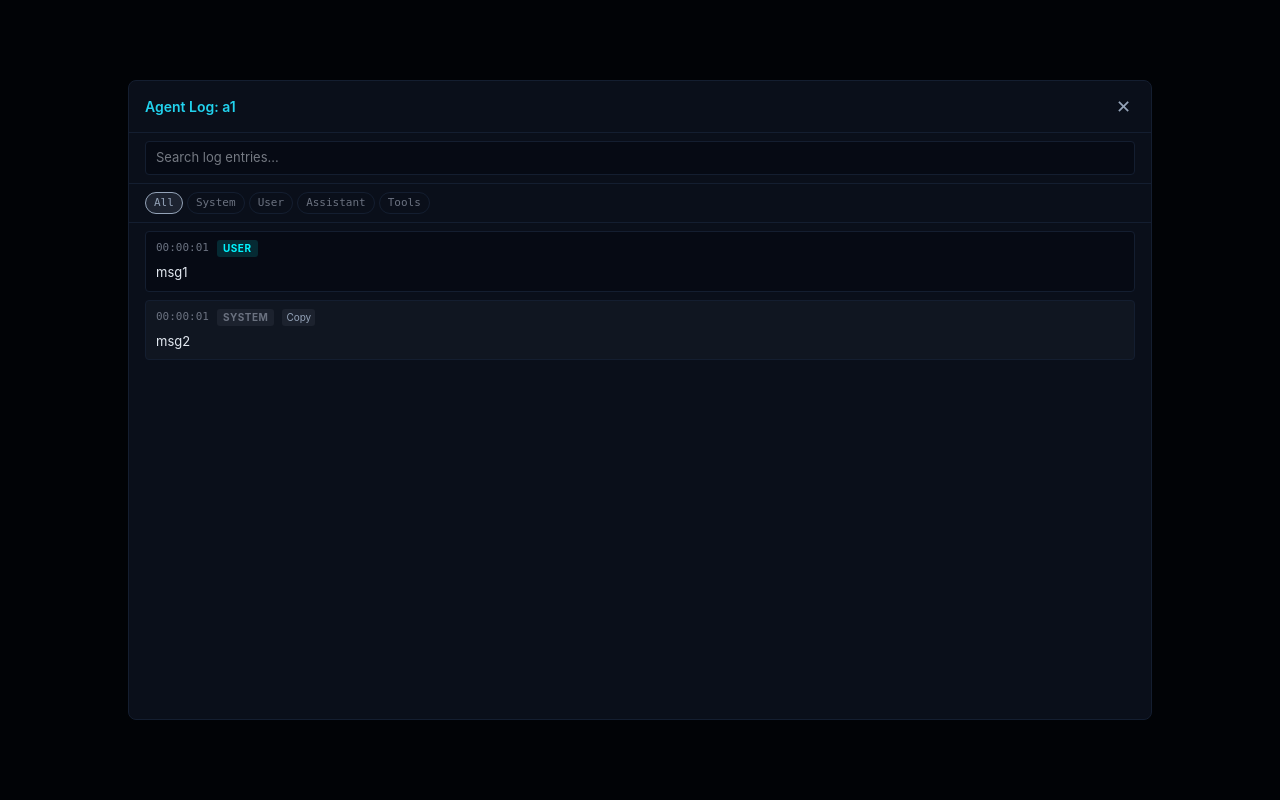
Scenario: LogViewer › switches back to All tab to show all entries again
Click the button "System". click: (216, 203)
box: [187,192,245,214]
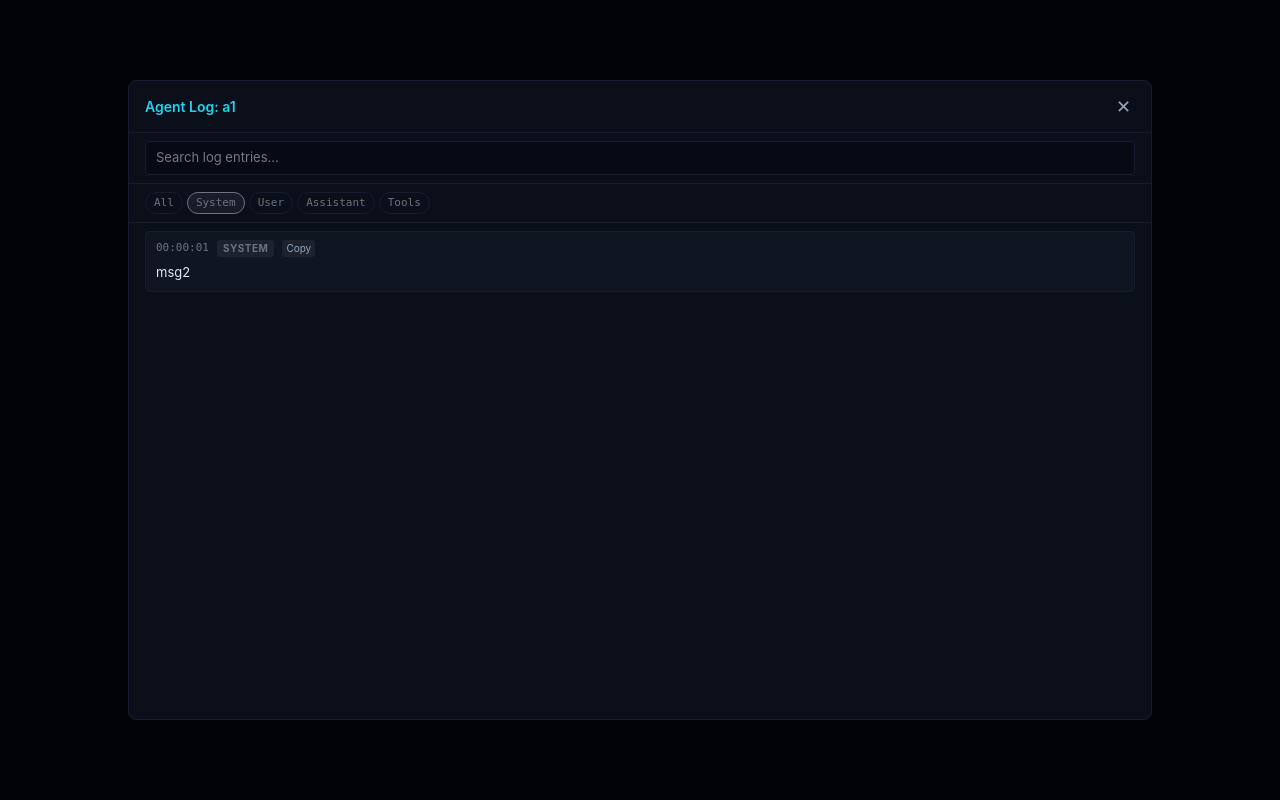
Check: the text "msg1" is gone
Click the button "All". click: (164, 203)
box: [145,192,183,214]
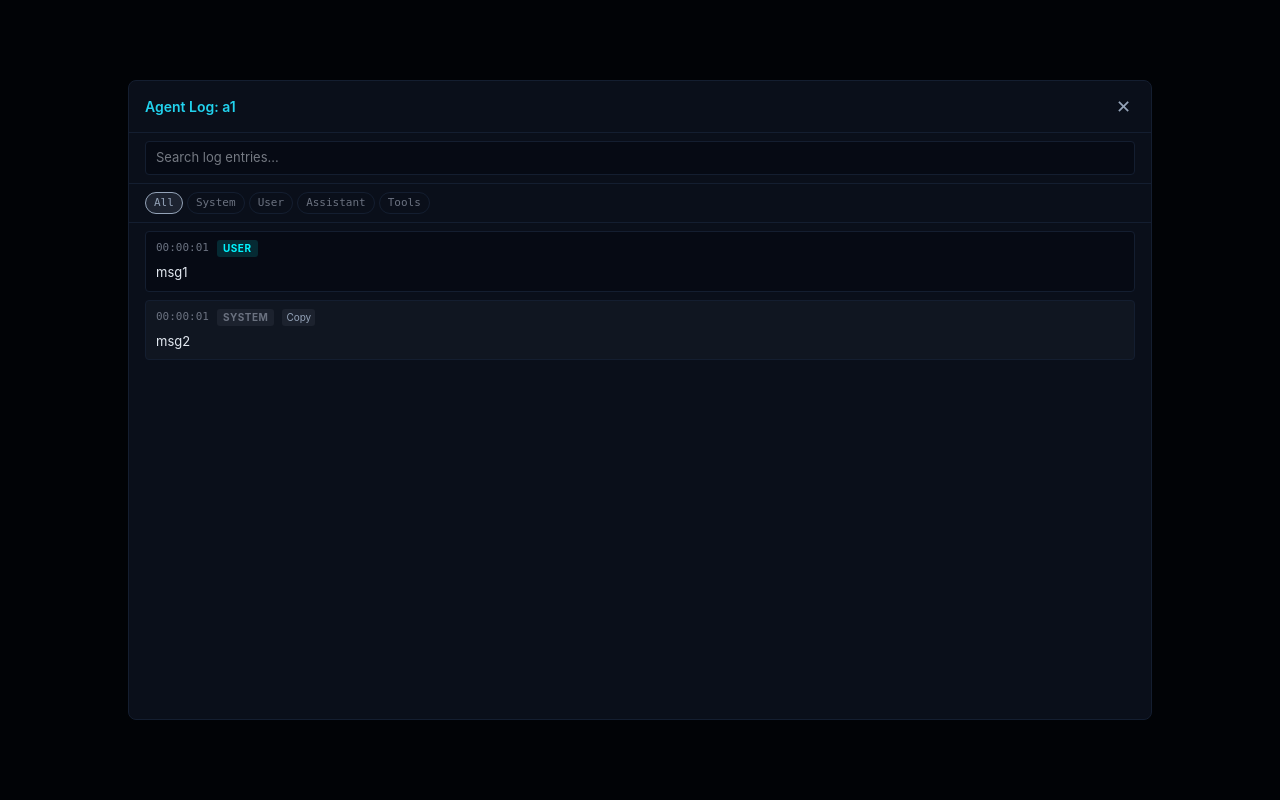
Check: the text "msg2" is shown, box [156,332,190,348]
Check: the text "msg1" is shown, box [156,264,188,280]
